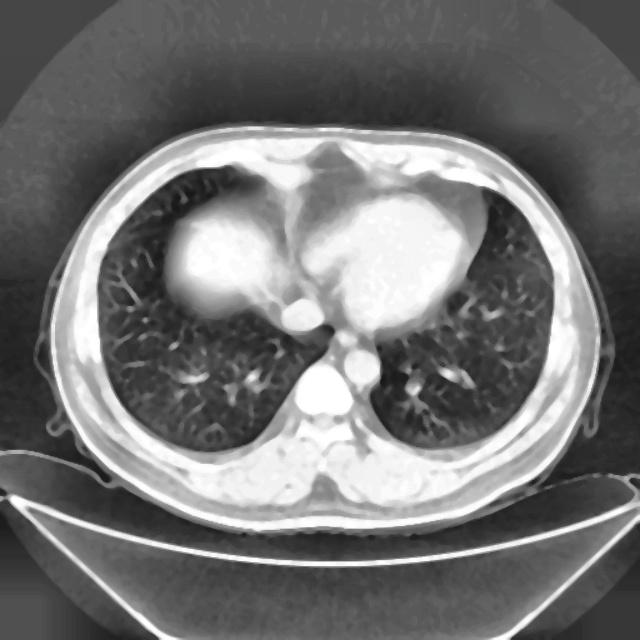covid: (36, 121, 613, 537)
